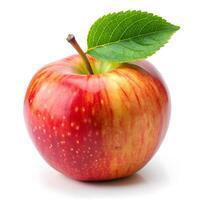non-mango: (21, 7, 185, 184)
